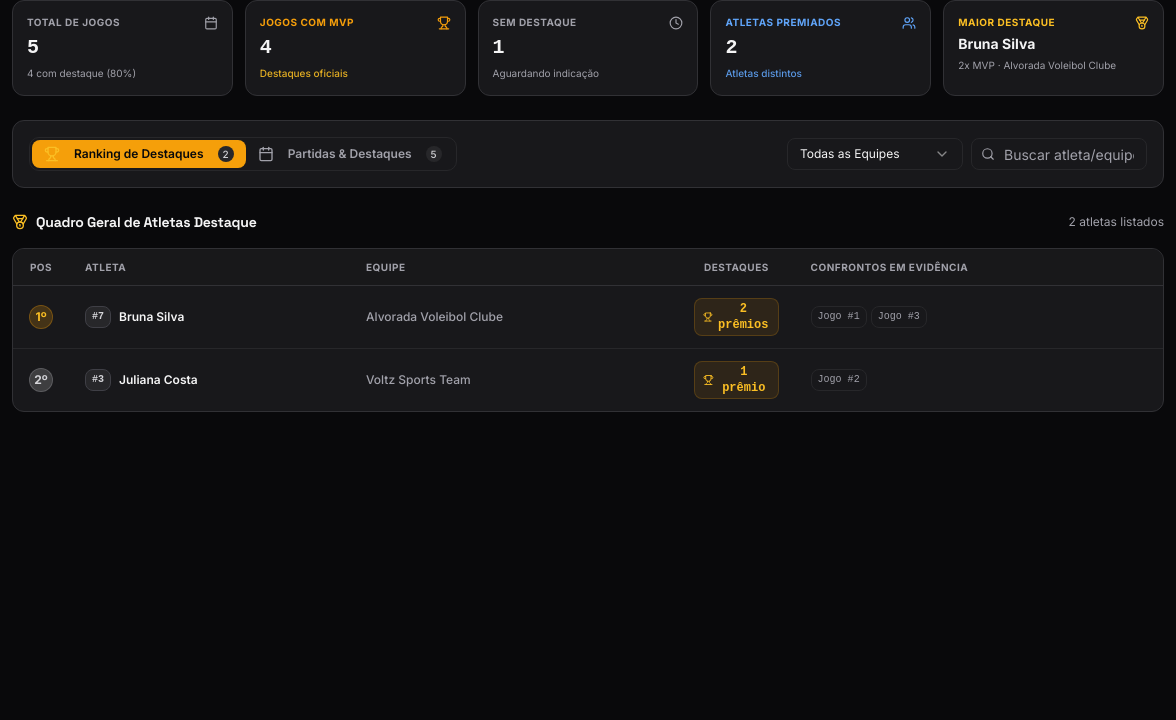
Test: Componente MvpReportView › renderiza o ranking de MVPs e permite alternar abas
Expected: the heading "Quadro Geral de Atletas Destaque" is shown, [12,212,256,232]
Alternar para a aba "Partidas & Destaques"
Click the button "Partidas & Destaques 5".
click(350, 154)  # box [246,140,454,168]
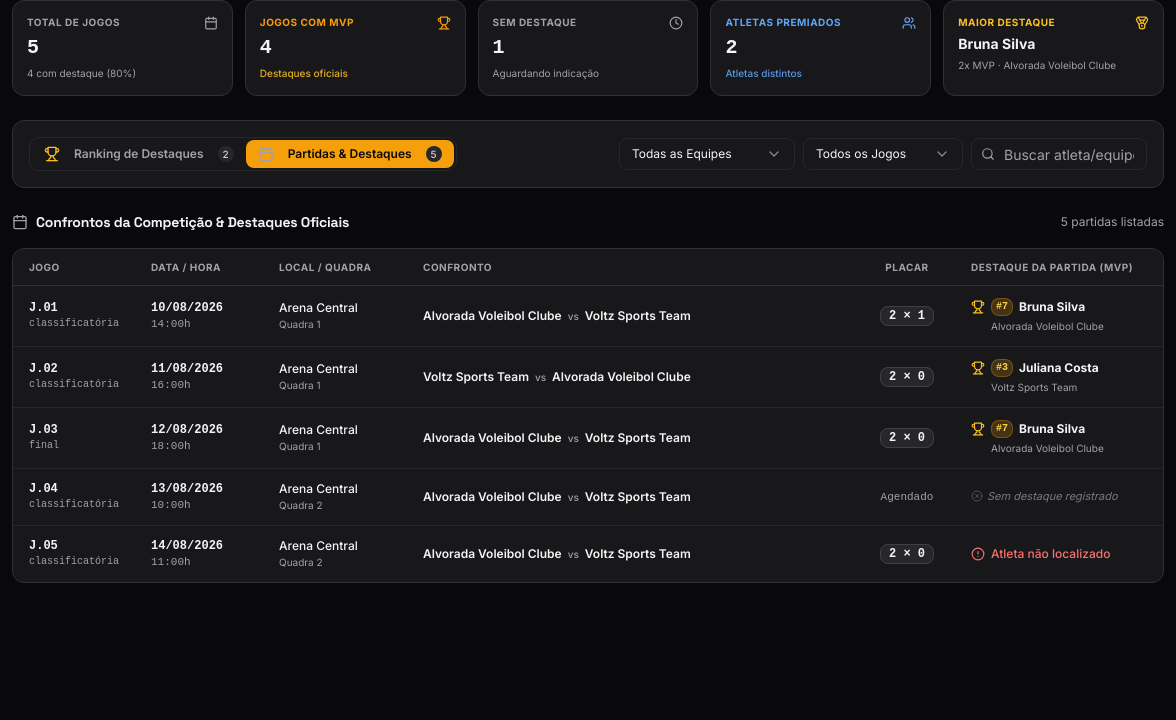
Expected: the heading "Confrontos da Competição & Destaques Oficiais" is shown, [12,212,349,232]
